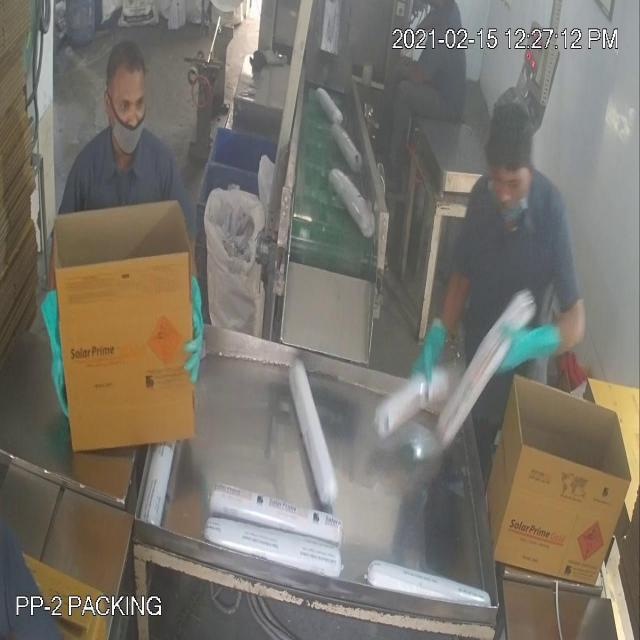Gloves: (48, 31, 525, 362)
